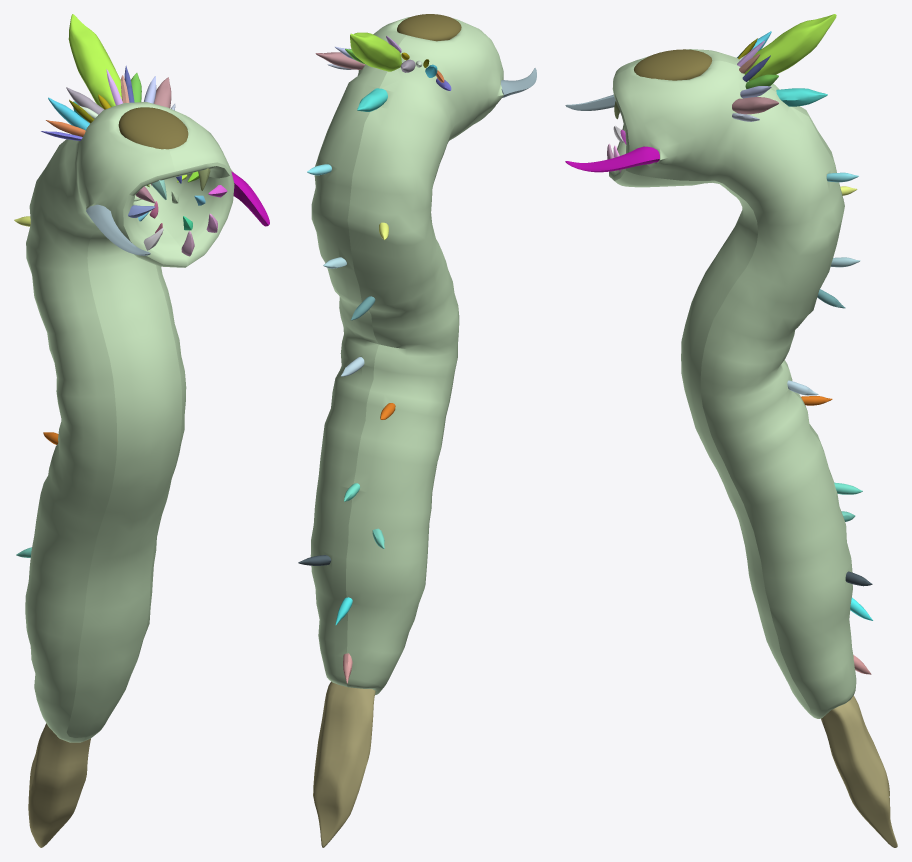
3 views of the same model, side by side, from view 1: azimuth 30°, elevation 25°; view 2: azimuth 150°, elevation 25°; view 3: azimuth 270°, elevation 25° (orthographic). The views are drawn at different scales.
Visible parts, largest first — view 1: split_parent_1, Object_6.027, Object_6.029, Object_7, Object_4.028, Object_4.030; view 2: split_parent_1, Object_6.027, Object_6.029, Object_7, Object_4.028, Object_6.037, Object_6.023; view 3: split_parent_1, Object_6.027, Object_6.029, Object_7, Object_4.030, Object_6.037, Object_6.023.
Part boxes in pixels (x1=…): split_parent_1: x1=25, y1=102, x2=234, y2=742; Object_6.027: x1=28, y1=723, x2=90, y2=847; Object_6.029: x1=68, y1=14, x2=121, y2=108; Object_7: x1=118, y1=107, x2=188, y2=149; Object_4.028: x1=86, y1=204, x2=150, y2=255; Object_4.030: x1=231, y1=171, x2=269, y2=226; split_parent_1: x1=310, y1=17, x2=503, y2=694; Object_6.027: x1=313, y1=681, x2=375, y2=847; Object_6.029: x1=350, y1=32, x2=401, y2=71; Object_7: x1=397, y1=14, x2=461, y2=41; Object_4.028: x1=501, y1=68, x2=536, y2=97; Object_6.037: x1=357, y1=88, x2=387, y2=111; Object_6.023: x1=315, y1=52, x2=365, y2=69; split_parent_1: x1=609, y1=49, x2=856, y2=718; Object_6.027: x1=821, y1=695, x2=897, y2=847; Object_6.029: x1=744, y1=14, x2=836, y2=80; Object_7: x1=634, y1=49, x2=712, y2=80; Object_4.030: x1=565, y1=146, x2=659, y2=172; Object_6.037: x1=776, y1=88, x2=827, y2=106; Object_6.023: x1=732, y1=97, x2=778, y2=114.
Bounding box in the file's own units: 0.1893 × 1 × 0.3608.
